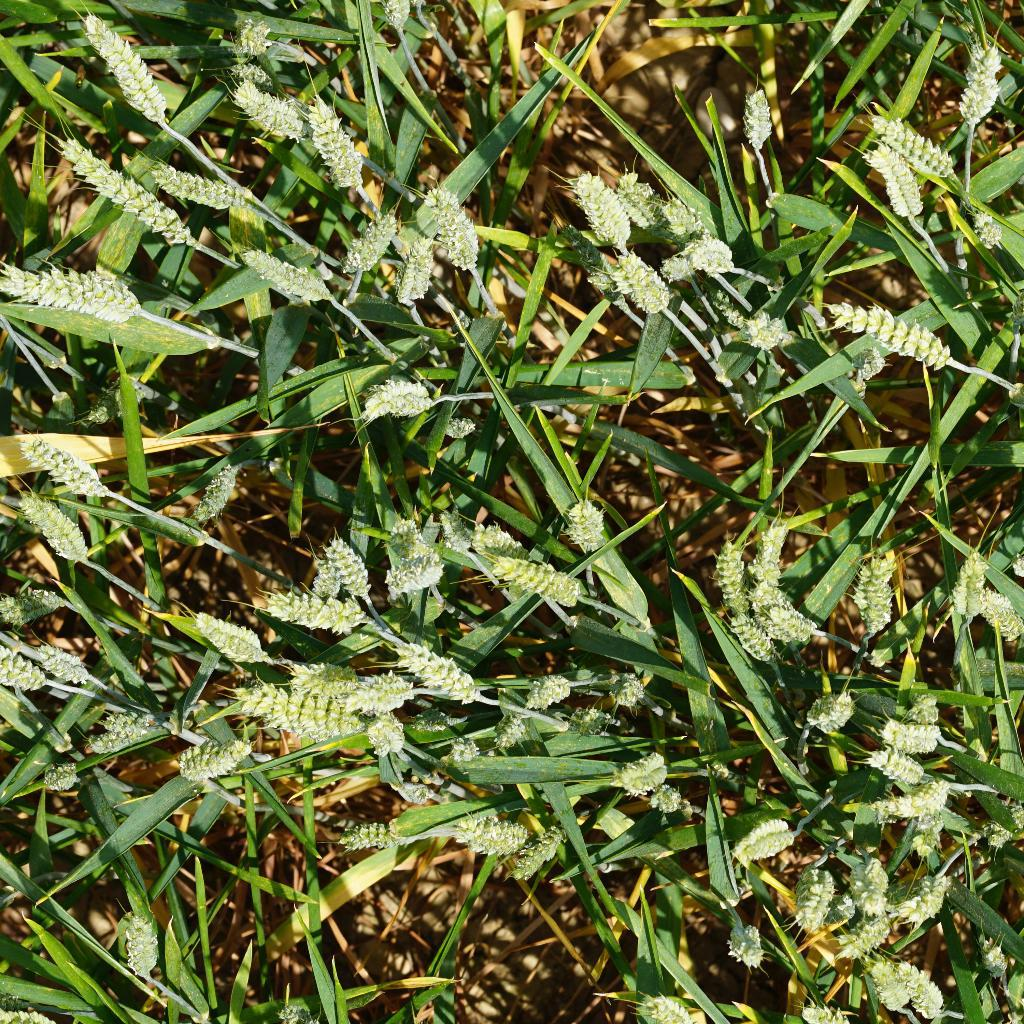0-0: (59, 139, 212, 254), (75, 6, 201, 142), (817, 284, 959, 372), (0, 257, 164, 332), (12, 488, 126, 582), (139, 156, 280, 221), (15, 422, 120, 507), (474, 544, 595, 617), (228, 676, 352, 743), (870, 96, 957, 190), (856, 133, 937, 231), (240, 242, 348, 314), (249, 580, 373, 642), (418, 180, 493, 281), (553, 220, 631, 316), (940, 37, 1011, 139), (302, 93, 367, 194), (165, 733, 268, 792), (391, 636, 478, 703), (847, 552, 911, 642), (183, 608, 277, 669), (309, 522, 378, 600), (119, 900, 174, 997), (352, 371, 442, 429), (748, 591, 832, 653), (747, 523, 810, 605), (781, 859, 844, 941), (606, 246, 679, 316), (658, 232, 746, 288), (856, 781, 971, 822), (732, 810, 811, 869), (235, 82, 316, 138), (191, 455, 245, 538), (873, 705, 949, 762), (388, 235, 440, 318), (0, 580, 88, 628), (568, 172, 627, 243), (334, 808, 419, 857), (605, 745, 683, 798), (843, 742, 930, 789), (370, 550, 450, 601), (339, 202, 402, 266), (71, 706, 154, 754), (702, 541, 758, 612), (458, 508, 535, 559), (80, 376, 151, 429), (799, 684, 863, 741), (904, 866, 960, 930), (26, 638, 98, 687), (613, 169, 669, 230), (550, 489, 611, 544), (949, 546, 992, 624), (448, 817, 533, 856), (722, 918, 776, 979), (722, 608, 778, 666), (0, 643, 60, 697), (225, 12, 277, 74), (509, 826, 564, 884), (699, 276, 752, 336), (970, 586, 1024, 641), (733, 304, 790, 356), (978, 795, 1024, 859), (840, 851, 889, 911), (863, 956, 912, 1015), (374, 508, 438, 552), (737, 81, 775, 155), (845, 909, 900, 960), (352, 673, 414, 718), (297, 546, 343, 606), (484, 709, 541, 757), (905, 808, 952, 861), (433, 507, 478, 562), (904, 963, 944, 1023), (593, 665, 643, 712), (966, 202, 1011, 254), (802, 890, 862, 928), (645, 989, 709, 1024), (979, 931, 1024, 980), (842, 343, 894, 385), (298, 664, 362, 698), (520, 661, 568, 706), (787, 997, 867, 1024), (90, 704, 159, 735), (365, 0, 421, 34), (560, 703, 614, 738), (654, 247, 701, 287), (901, 688, 945, 728), (654, 200, 702, 236), (40, 757, 78, 799), (369, 717, 410, 755), (410, 705, 458, 736), (647, 781, 684, 816), (435, 413, 477, 439), (446, 737, 481, 765), (447, 311, 474, 339)
